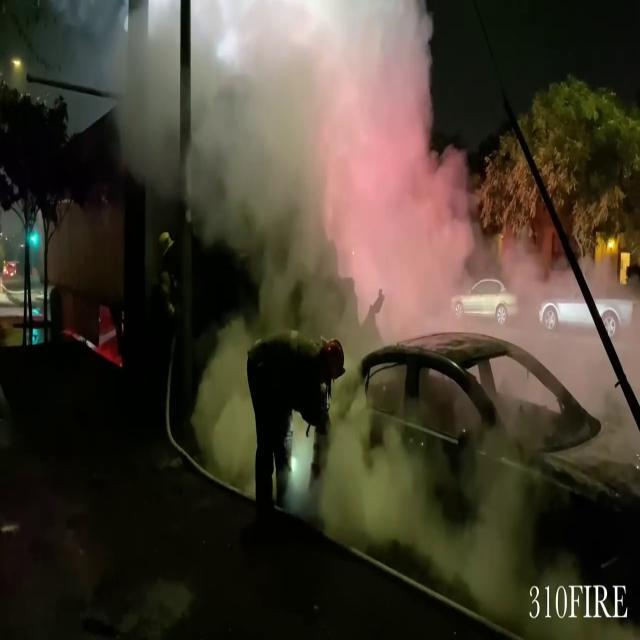Smoke: (184, 0, 498, 329)
